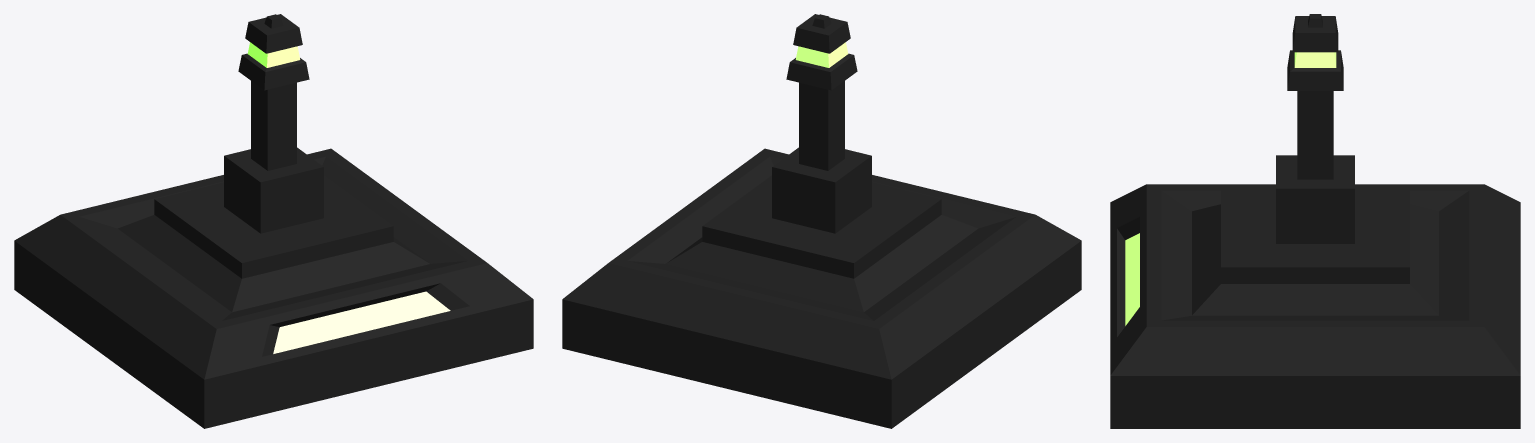
The model's file is CaptureBox.fbx.
3 views of the same model, side by side, from view 1: azimuth 30°, elevation 25°; view 2: azimuth 150°, elevation 25°; view 3: azimuth 270°, elevation 25° (orthographic). The views are drawn at different scales.
Parts seen in each view (by area): view 1: Cube; view 2: Cube; view 3: Cube.
Boxes of the visible parts, left/top/right/bottom form: Cube: left=14, top=14, right=533, bottom=428; Cube: left=562, top=14, right=1081, bottom=428; Cube: left=1110, top=14, right=1520, bottom=428.
Bounding box in the file's own units: 200 × 177 × 200.
